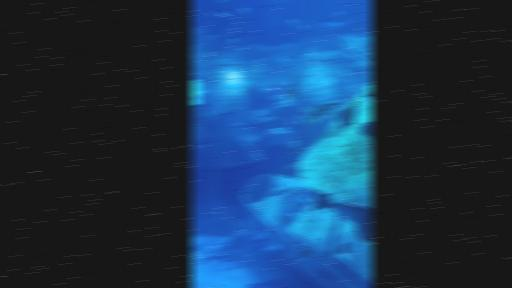Fish: (303, 101, 340, 125), (337, 96, 362, 129), (311, 20, 352, 33), (357, 208, 372, 241), (311, 191, 334, 210), (296, 245, 315, 260), (359, 123, 372, 140), (286, 86, 299, 100), (362, 87, 371, 96), (288, 18, 297, 27), (292, 146, 301, 155), (341, 242, 348, 253), (196, 107, 203, 116), (218, 12, 229, 17), (287, 117, 292, 125), (205, 52, 212, 57), (206, 11, 211, 17), (213, 81, 220, 85), (240, 9, 247, 13), (206, 20, 213, 24), (209, 35, 216, 39), (289, 164, 298, 167), (301, 108, 310, 111), (231, 38, 236, 43), (218, 0, 227, 2), (300, 26, 305, 29), (299, 77, 302, 81), (338, 11, 341, 15)
